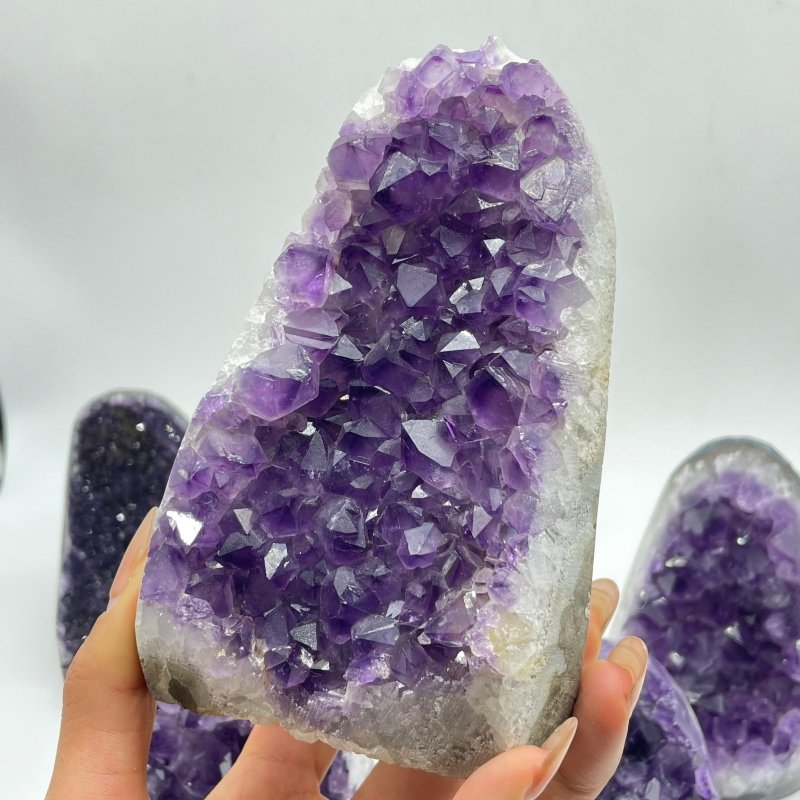Amethyst: (147, 36, 599, 730)
